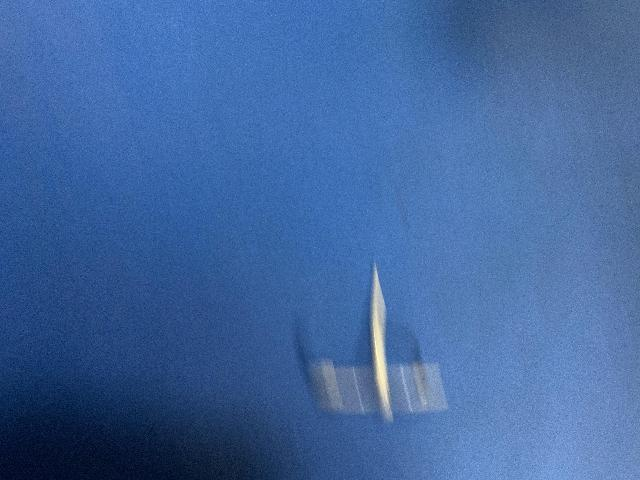Plastik: (308, 259, 440, 413)
